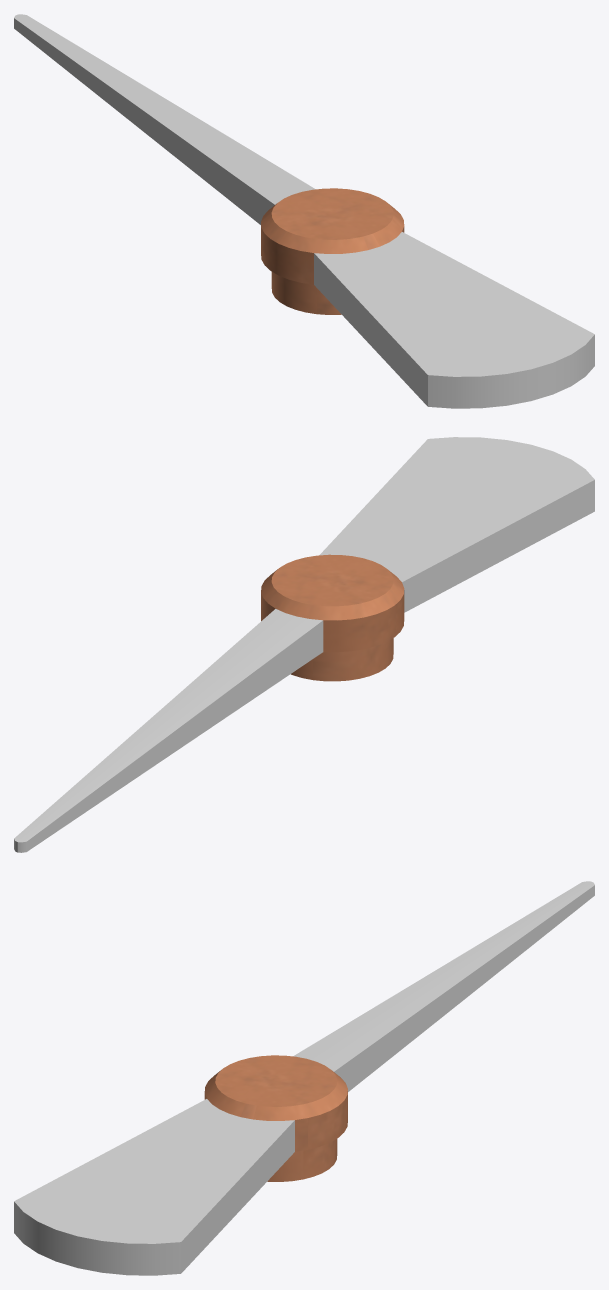
The model's file is Temp_Needle.fbx.
The picture shows the model from 3 angles, top to bottom: view 1: azimuth 30°, elevation 25°; view 2: azimuth 150°, elevation 25°; view 3: azimuth 330°, elevation 25°; orthographic projection.
Visible parts, largest first — view 1: Temp_01.001; view 2: Temp_01.001; view 3: Temp_01.001.
Part boxes in pixels (x1,y1,x2,y2): Temp_01.001: (14,14,594,408); Temp_01.001: (14,437,594,852); Temp_01.001: (14,881,594,1275).
Size of the model in its own units: 1.19 by 0.5109 by 6.33.
